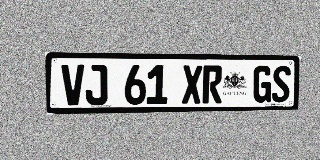1: (147, 65, 168, 104)
6: (125, 65, 146, 105)
G: (253, 66, 272, 103)
J: (85, 65, 108, 105)
R: (202, 65, 223, 104)
S: (271, 66, 291, 102)
V: (61, 64, 85, 106)
X: (182, 65, 202, 104)
